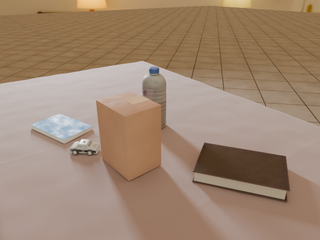book: (192, 143, 290, 202), (31, 114, 93, 144)
bottle: (142, 67, 166, 128)
box: (96, 91, 161, 181)
toy_car: (69, 139, 101, 155)
